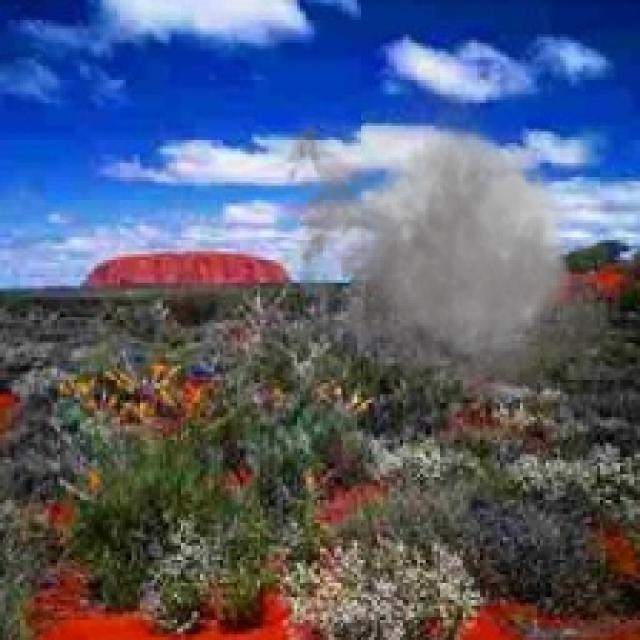smoke: (274, 66, 623, 423)
